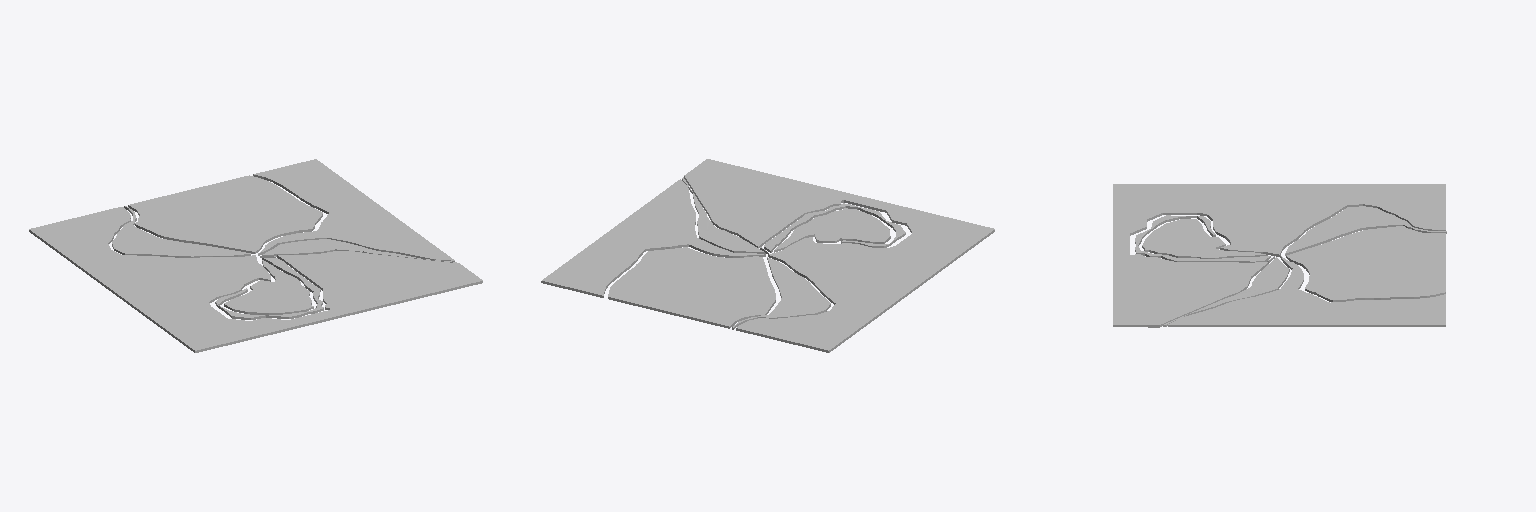
Rendered from cracksv2.obj.
3 views of the same model, side by side, from view 1: azimuth 30°, elevation 25°; view 2: azimuth 150°, elevation 25°; view 3: azimuth 270°, elevation 25° (orthographic).
Parts seen in each view (by area): view 1: crackShatter shard2, crackShatter shard4, crackShatter shard5, shard1 crackShatter, crackShatter shard3, crackShatter shard6, crackShatter shard7; view 2: crackShatter shard2, crackShatter shard4, crackShatter shard5, shard1 crackShatter, crackShatter shard3, crackShatter shard6, crackShatter shard7; view 3: crackShatter shard2, crackShatter shard4, crackShatter shard5, shard1 crackShatter, crackShatter shard3, crackShatter shard6, crackShatter shard7.
Part boxes in pixels (bbox=[...]): crackShatter shard2: bbox=[29, 207, 482, 352]; crackShatter shard4: bbox=[128, 175, 322, 253]; crackShatter shard5: bbox=[253, 159, 454, 261]; shard1 crackShatter: bbox=[224, 260, 313, 314]; crackShatter shard3: bbox=[112, 206, 250, 257]; crackShatter shard6: bbox=[262, 239, 456, 262]; crackShatter shard7: bbox=[215, 258, 323, 319]; crackShatter shard2: bbox=[684, 159, 994, 352]; crackShatter shard4: bbox=[608, 247, 775, 328]; crackShatter shard5: bbox=[541, 179, 765, 297]; shard1 crackShatter: bbox=[774, 208, 890, 252]; crackShatter shard3: bbox=[732, 257, 830, 329]; crackShatter shard6: bbox=[682, 177, 765, 253]; crackShatter shard7: bbox=[764, 203, 905, 252]; crackShatter shard2: bbox=[1113, 184, 1445, 327]; crackShatter shard4: bbox=[1286, 226, 1445, 301]; crackShatter shard5: bbox=[1168, 256, 1445, 326]; shard1 crackShatter: bbox=[1142, 219, 1267, 258]; crackShatter shard3: bbox=[1285, 206, 1446, 255]; crackShatter shard6: bbox=[1163, 257, 1289, 326]; crackShatter shard7: bbox=[1135, 215, 1270, 262].
Bounding box in the file's own units: 108 × 0.8905 × 108.